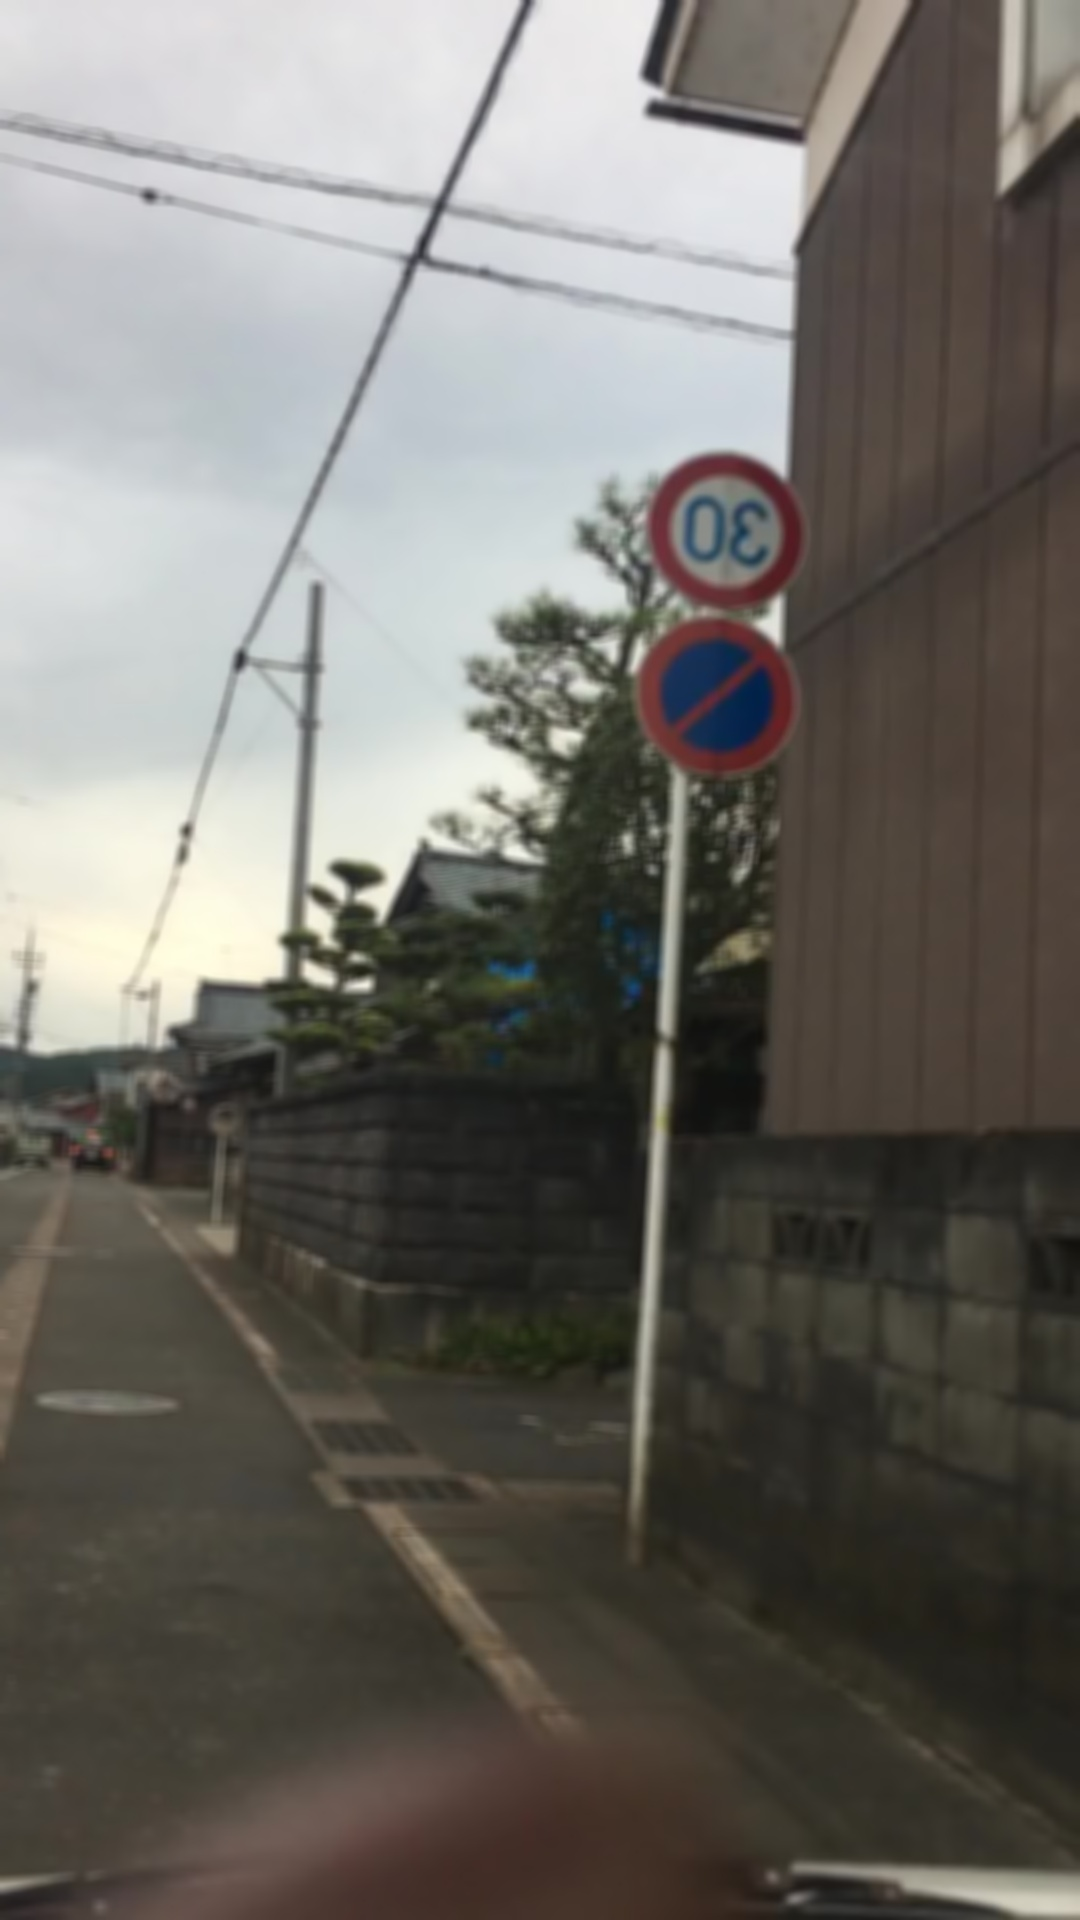Prohibition_sign: (647, 608, 810, 781)
Speed_sign: (654, 446, 802, 620)
